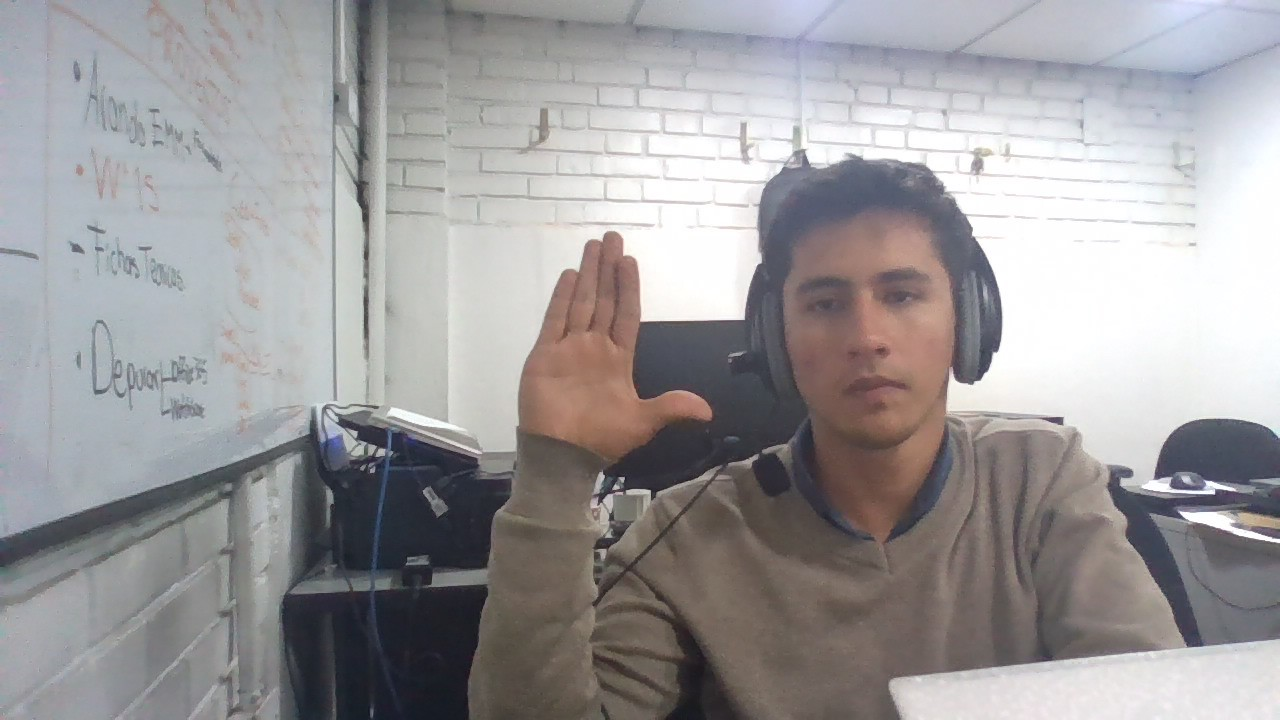hola: (513, 223, 721, 463)
